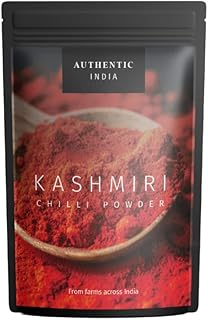Chilli Powder: (2, 4, 208, 318)
